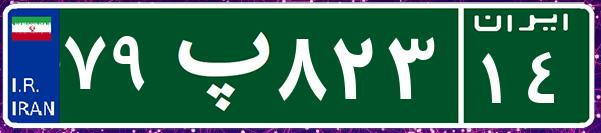1: (475, 38, 525, 113)
2: (330, 28, 385, 110)
3: (385, 28, 445, 110)
4: (525, 38, 570, 115)
7: (57, 26, 110, 107)
8: (273, 28, 330, 110)
9: (110, 28, 158, 105)
پ: (158, 15, 273, 115)
